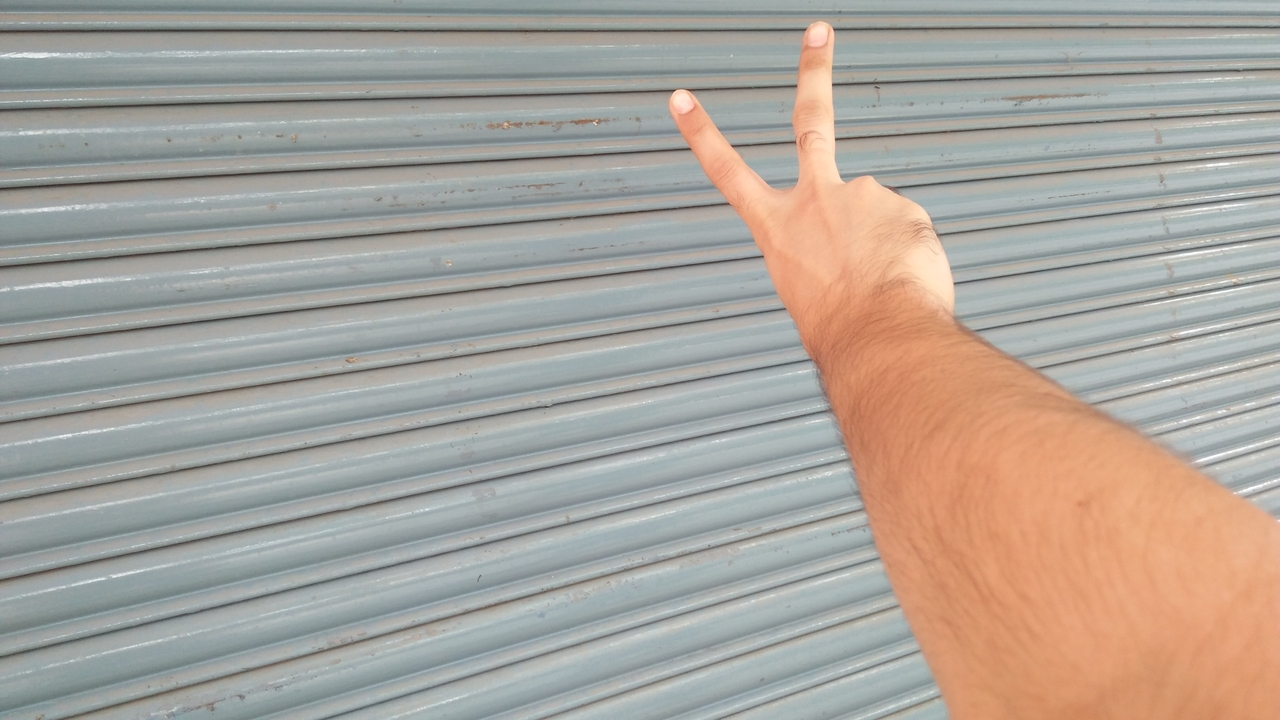fingertip: (656, 76, 718, 124), (796, 6, 842, 54)
